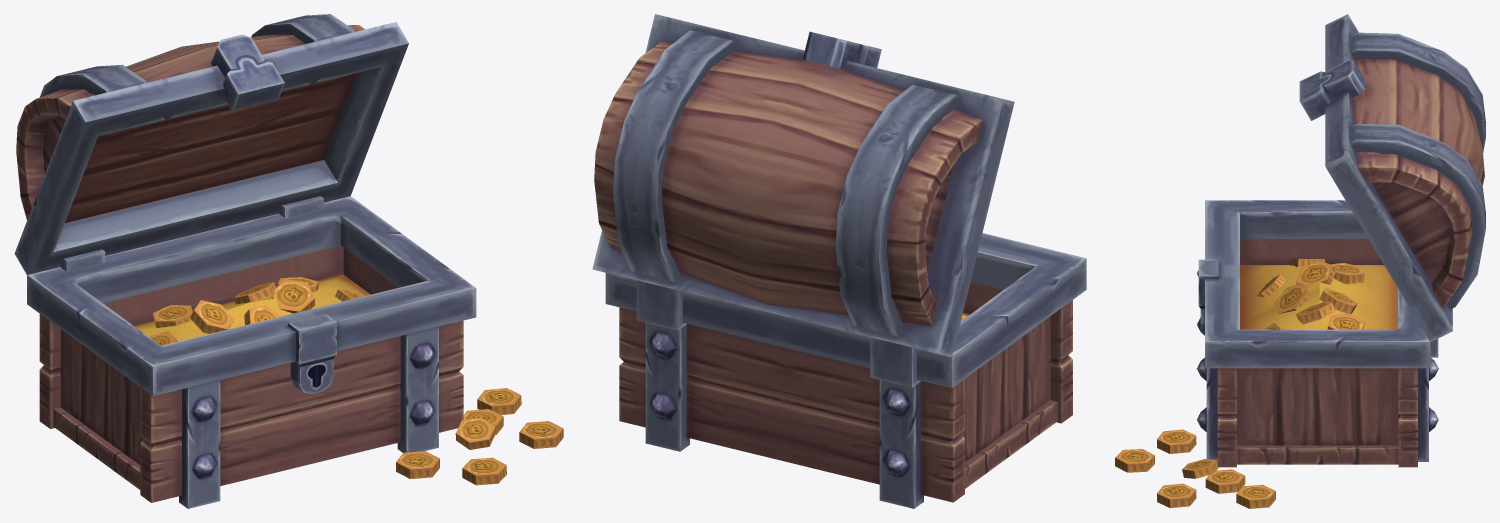
The model's file is treasure.glb.
3 renders of one model, left to right at view 1: azimuth 30°, elevation 25°; view 2: azimuth 150°, elevation 25°; view 3: azimuth 270°, elevation 25°, orthographic. The views are drawn at different scales.
Parts seen in each view (by area): view 1: Chest_bottom, Chest_top, Coins; view 2: Chest_top, Chest_bottom; view 3: Chest_bottom, Chest_top, Coins.
Part boxes in pixels (x1,y1,x2,y2): Chest_bottom: [27, 196, 476, 508]; Chest_top: [14, 14, 408, 274]; Coins: [233, 282, 563, 485]; Chest_top: [592, 14, 1014, 356]; Chest_bottom: [605, 233, 1086, 508]; Chest_bottom: [1196, 200, 1438, 467]; Chest_top: [1299, 14, 1485, 341]; Coins: [1115, 283, 1357, 508].
Bounding box in the file's own units: 53.61 × 49.75 × 48.76.
Materials: 1 (1 with a texture image).
